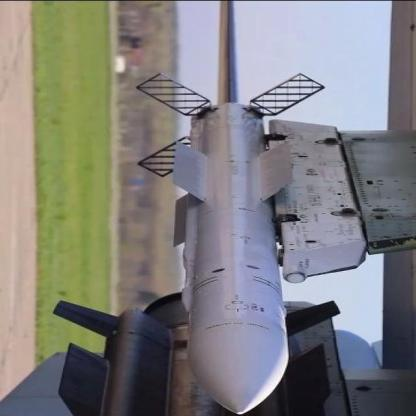MIL_TBM: (186, 73, 288, 416)
